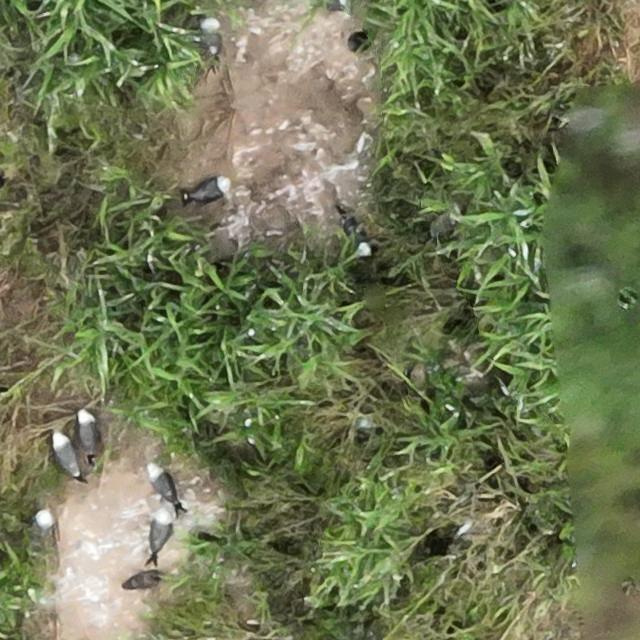umineko: (144, 511, 172, 558), (345, 214, 374, 258), (146, 462, 176, 501), (199, 18, 223, 60), (54, 436, 78, 475), (192, 179, 228, 200), (78, 411, 95, 450), (32, 510, 52, 537)
